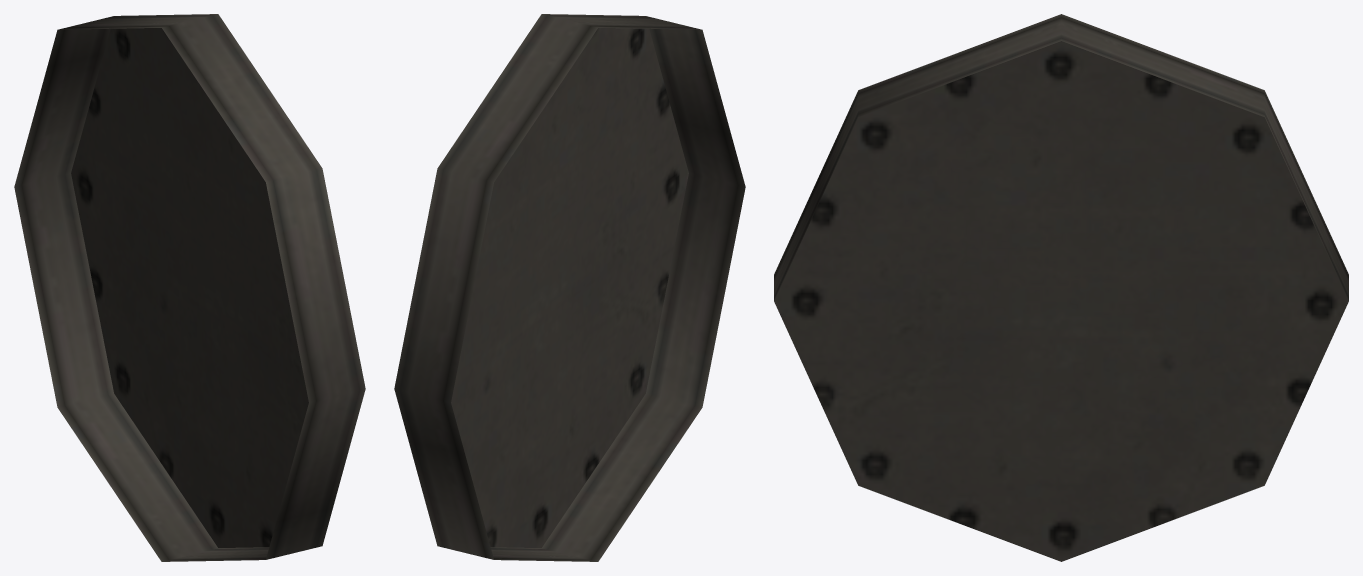
Rendered from com_pipe_8_fit_white_clean_lod1.glb.
3 views of the same model, side by side, from view 1: azimuth 30°, elevation 25°; view 2: azimuth 150°, elevation 25°; view 3: azimuth 270°, elevation 25° (orthographic). The views are drawn at different scales.
Parts seen in each view (by area): view 1: surf0; view 2: surf0; view 3: surf0.
Boxes of the visible parts, bbox=[...] form: surf0: bbox=[14, 14, 365, 561]; surf0: bbox=[394, 14, 745, 561]; surf0: bbox=[774, 14, 1348, 561].
Size of the model in its own units: 2.05 by 18.48 by 18.48.
